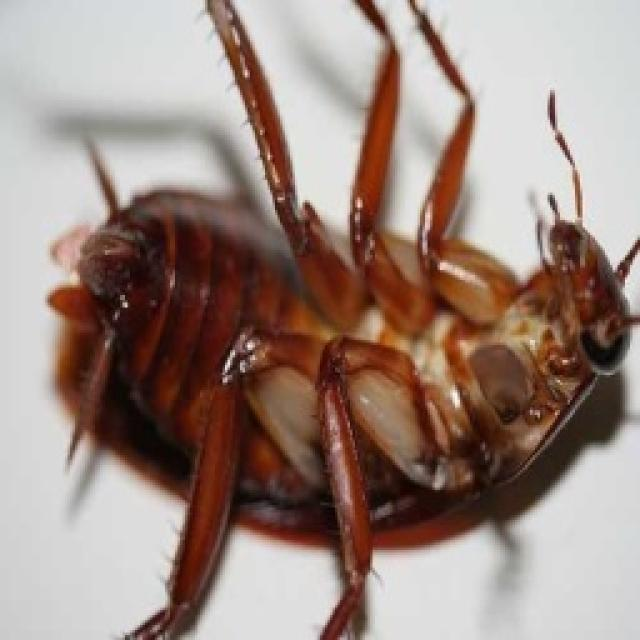cockroach: (41, 3, 637, 636)
